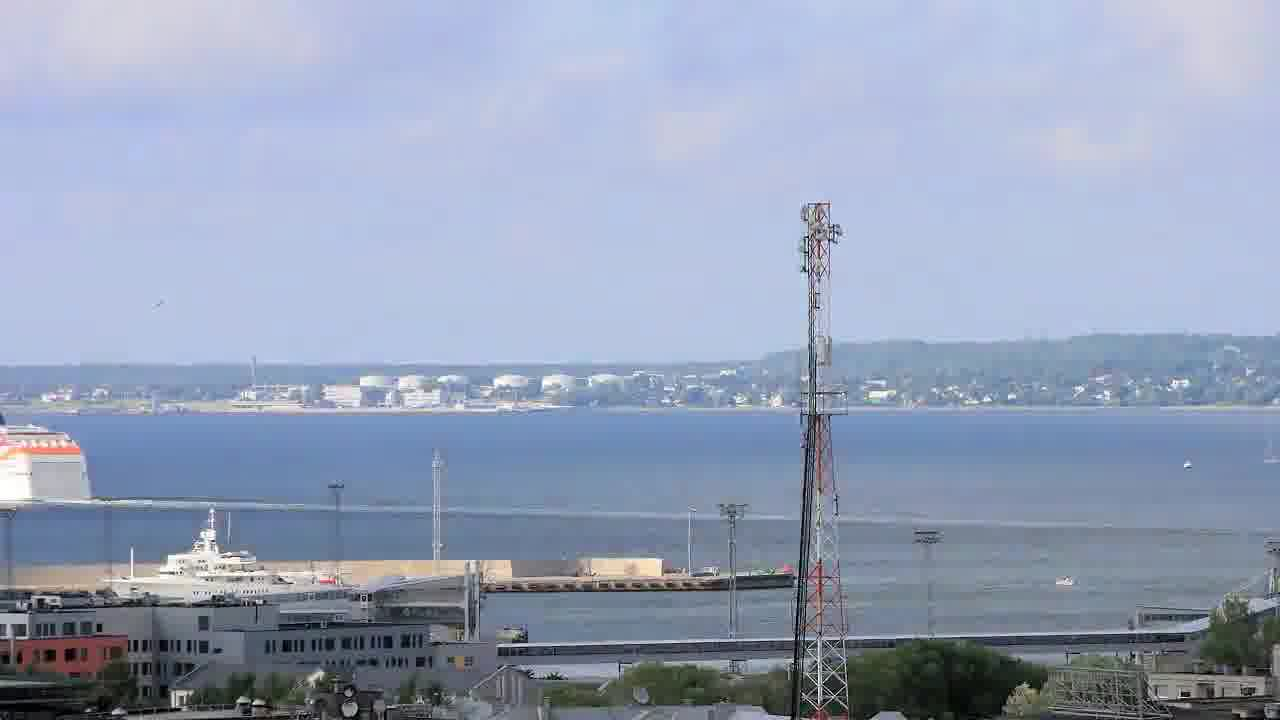type-3: (96, 508, 381, 605), (0, 381, 100, 517)
type-4: (1036, 554, 1090, 616)
